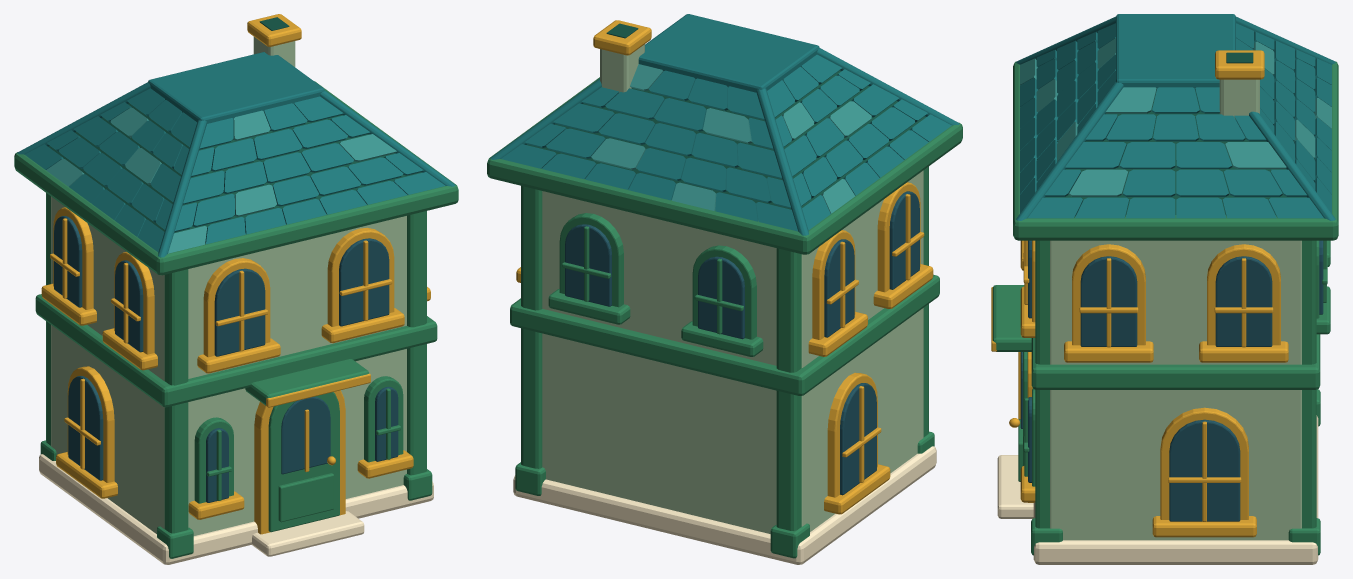
File: house-mint.glb
3 views of the same model, side by side, from view 1: azimuth 30°, elevation 25°; view 2: azimuth 150°, elevation 25°; view 3: azimuth 270°, elevation 25° (orthographic). The views are drawn at different scales.
Visible parts, largest first — view 1: Boulevard_green.002, Boulevard_teal.002, Boulevard_mint, Boulevard_gold.002, Boulevard_glass.002, Boulevard_cream.002, Boulevard_teal_light.002, Boulevard_dark_green.002; view 2: Boulevard_mint, Boulevard_teal.002, Boulevard_green.002, Boulevard_glass.002, Boulevard_gold.002, Boulevard_cream.002, Boulevard_teal_light.002, Boulevard_dark_green.002; view 3: Boulevard_teal.002, Boulevard_mint, Boulevard_green.002, Boulevard_gold.002, Boulevard_glass.002, Boulevard_cream.002, Boulevard_teal_light.002, Boulevard_dark_green.002.
Boxes of the visible parts, x1=… form: Boulevard_green.002: x1=14, y1=81, x2=458, y2=558; Boulevard_teal.002: x1=17, y1=52, x2=455, y2=257; Boulevard_mint: x1=51, y1=37, x2=406, y2=535; Boulevard_gold.002: x1=41, y1=14, x2=430, y2=534; Boulevard_glass.002: x1=54, y1=216, x2=398, y2=502; Boulevard_cream.002: x1=39, y1=454, x2=433, y2=564; Boulevard_teal_light.002: x1=46, y1=108, x2=396, y2=253; Boulevard_dark_green.002: x1=48, y1=17, x2=421, y2=232; Boulevard_mint: x1=542, y1=44, x2=923, y2=533; Boulevard_teal.002: x1=490, y1=14, x2=959, y2=235; Boulevard_green.002: x1=487, y1=77, x2=962, y2=558; Boulevard_glass.002: x1=565, y1=191, x2=919, y2=495; Boulevard_gold.002: x1=516, y1=20, x2=933, y2=514; Boulevard_cream.002: x1=513, y1=446, x2=936, y2=564; Boulevard_teal_light.002: x1=591, y1=64, x2=871, y2=213; Boulevard_dark_green.002: x1=526, y1=23, x2=926, y2=209; Boulevard_teal.002: x1=1016, y1=14, x2=1335, y2=220; Boulevard_mint: x1=1050, y1=79, x2=1301, y2=540; Boulevard_green.002: x1=992, y1=61, x2=1338, y2=555; Boulevard_gold.002: x1=991, y1=50, x2=1288, y2=537; Boulevard_glass.002: x1=1020, y1=240, x2=1323, y2=521; Boulevard_cream.002: x1=997, y1=415, x2=1318, y2=564; Boulevard_teal_light.002: x1=1020, y1=38, x2=1331, y2=196; Boulevard_dark_green.002: x1=1037, y1=52, x2=1314, y2=214.
Size of the model in its own units: 3.74 by 5.06 by 3.37.
